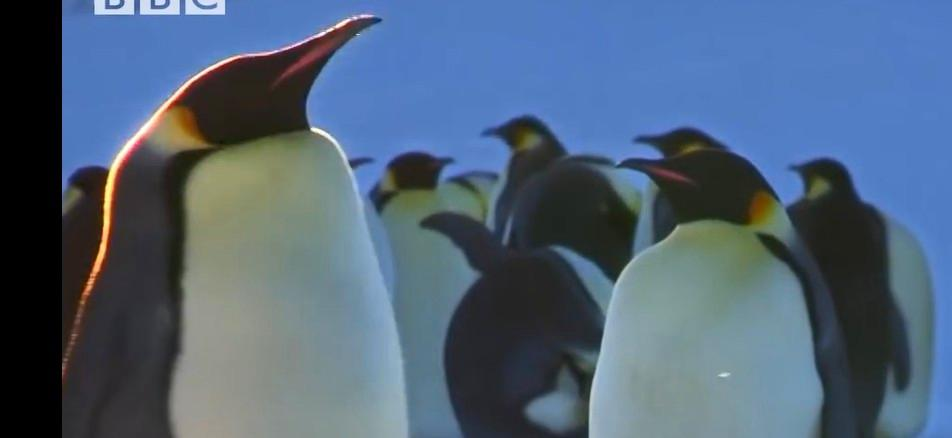Emperor Penguin: (66, 0, 420, 438), (568, 137, 861, 438), (376, 146, 462, 438), (478, 96, 580, 252)
